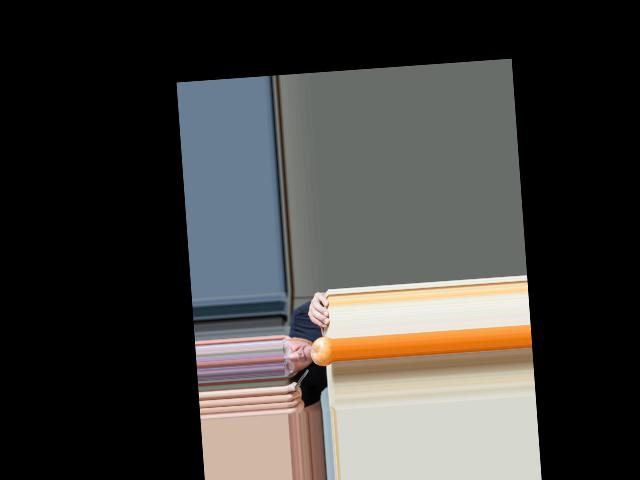onion: (309, 335, 334, 367)
